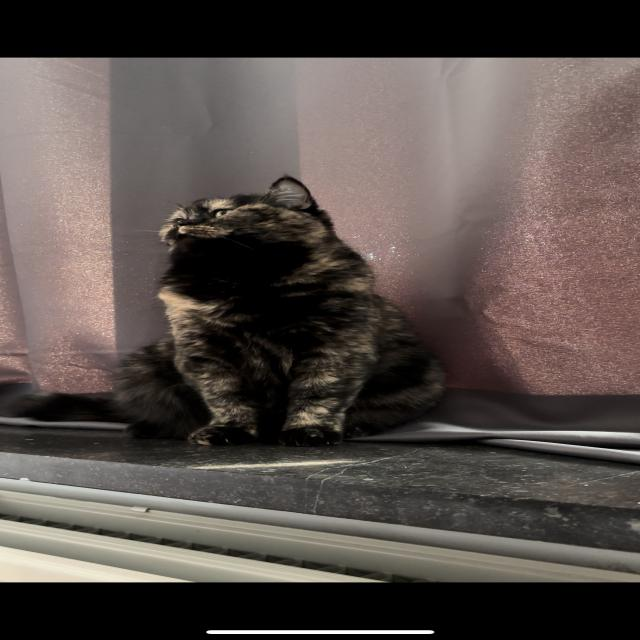authorized: (2, 174, 448, 447)
